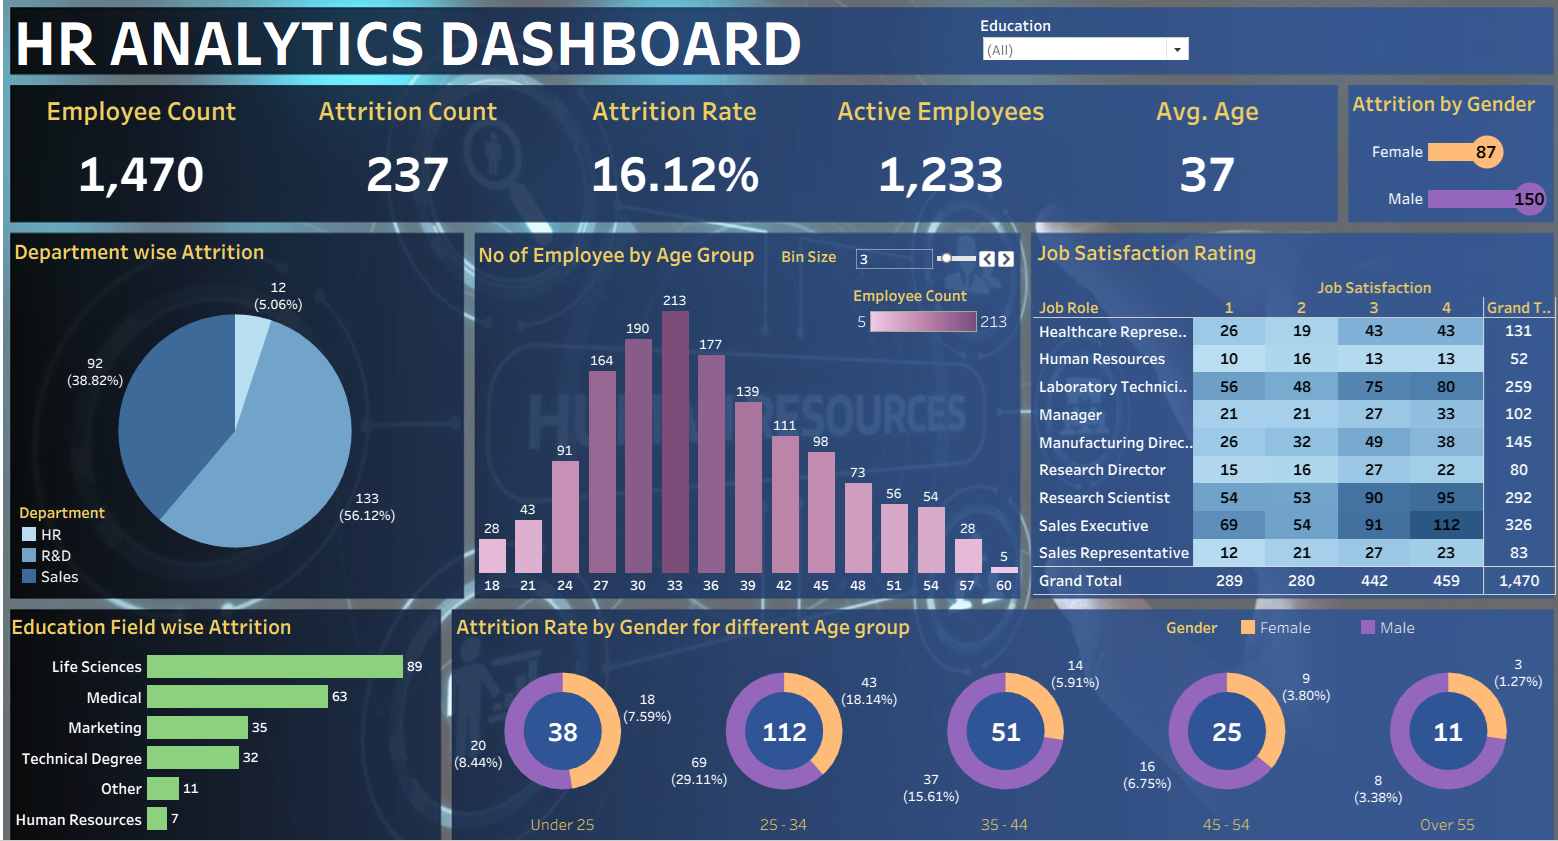

Layout of this report page (visuals, bound fields, positions):
{"tool":"tableau","page":{"name":"HR ANALYTICS DASHBOARD","canvas":[1590,900],"ordinal":0},"visuals":[{"type":"image","param":"Image/HR_background.png","box":[8,8,1574,884]},{"type":"text","box":[23.2,24,829.2,56]},{"type":"filter","title":"Department wise Attrition","param":"[federated.0ypjo0y1v00i2017ag1ih0qd3rqs].[none:Education:nk]","box":[993.2,27,212.3,45]},{"type":"worksheet","title":"Attrition by Gender ","mark":"Automatic","rows":["Gender"],"cols":["Calculation_1473949513146368","Calculation_1473949513146368"],"box":[1361,97,204,137]},{"type":"worksheet","title":"KPI","mark":"Automatic","box":[21.1,99,1333.4,130]},{"type":"worksheet","title":"Department wise Attrition","mark":"Pie","box":[23,245,450,353]},{"type":"worksheet","title":"Job Satisfaction Rating","mark":"Square","rows":["Job Role"],"cols":["Job Satisfaction"],"box":[1046,246,523,361]},{"type":"worksheet","title":"No of Employee by Age Group","mark":"Automatic","rows":["Employee Count"],"cols":["Age (bin)"],"box":[487.1,248,549.5,359]},{"type":"parameter","param":"[Parameters].[Parameter 1]","box":[794,258,236.5,39]},{"type":"legend","title":"No of Employee by Age Group","param":"[federated.0ypjo0y1v00i2017ag1ih0qd3rqs].[sum:Employee Count:qk]","box":[866.5,297,159,55]},{"type":"legend","title":"Department wise Attrition","param":"[federated.0ypjo0y1v00i2017ag1ih0qd3rqs].[none:Department:nk]","box":[32.2,514,113.7,85]},{"type":"worksheet","title":"Education Field wise Attrition","mark":"Automatic","rows":["Education Field"],"cols":["Calculation_1473949513146368"],"box":[20.1,620,432.7,226]},{"type":"worksheet","title":"Attrition Rate by Gender for different Age group ","mark":"Pie","rows":["Calculation_1086102121984001","Calculation_1086102121984001"],"cols":["CF_age band"],"box":[464.9,620,1107,255]},{"type":"legend","title":"Attrition Rate by Gender for different Age group ","param":"[federated.0ypjo0y1v00i2017ag1ih0qd3rqs].[none:Gender:nk]","box":[1179.4,629,343.2,31]}]}

Visuals, with their boxes in screenshot pixels (x1, y1, x2, y2):
image: (0,4,1501,840)
text: (14,19,805,72)
"Department wise Attrition" filter: (940,22,1142,65)
"Attrition by Gender " worksheet: (1290,88,1485,219)
"KPI" worksheet: (12,90,1284,214)
"Department wise Attrition" worksheet (Pie marks): (14,230,443,566)
"Job Satisfaction Rating" worksheet (Square marks): (990,231,1489,575)
"No of Employee by Age Group" worksheet: (457,233,981,575)
parameter: (749,242,975,279)
"No of Employee by Age Group" legend: (819,279,970,332)
"Department wise Attrition" legend: (23,486,131,567)
"Education Field wise Attrition" worksheet: (11,587,424,803)
"Attrition Rate by Gender for different Age group " worksheet (Pie marks): (435,587,1492,831)
"Attrition Rate by Gender for different Age group " legend: (1117,596,1445,626)
